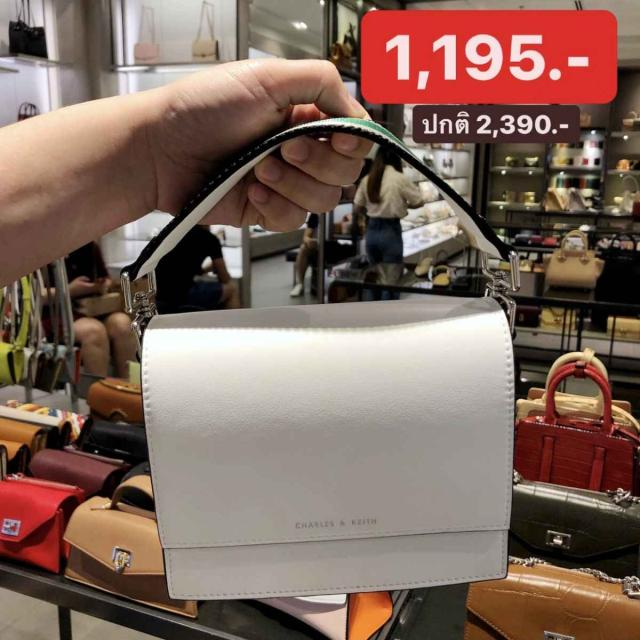Handbag: (117, 116, 516, 605)
